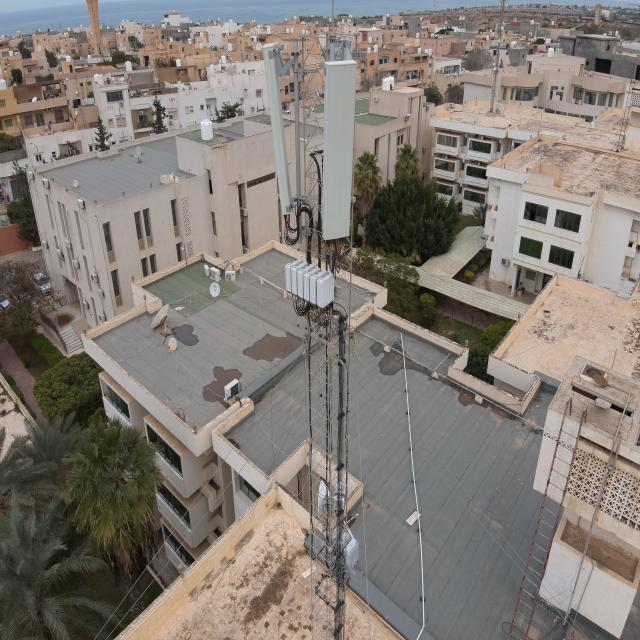antenna: (262, 37, 302, 217), (321, 61, 355, 240), (322, 33, 352, 185)
lighnig-rad: (330, 1, 336, 36)
microware-dish: (318, 479, 345, 522)
power-box: (329, 524, 361, 572)
radio-unit: (285, 258, 336, 312)
